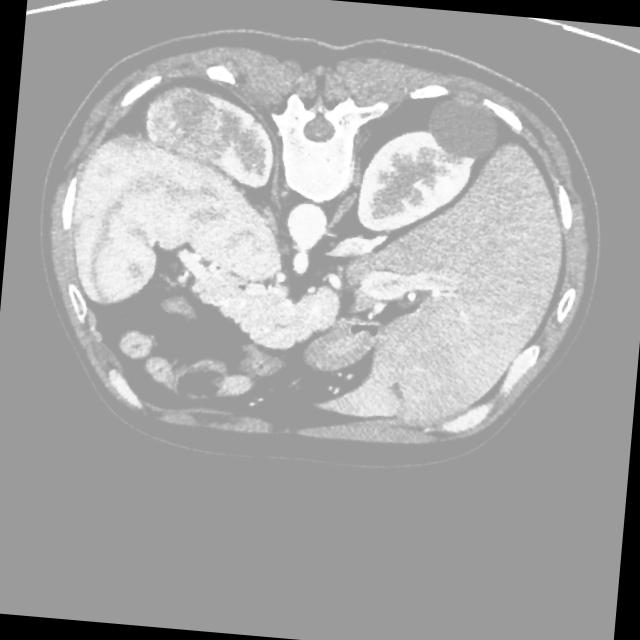TUMOR: (76, 76, 529, 392)
